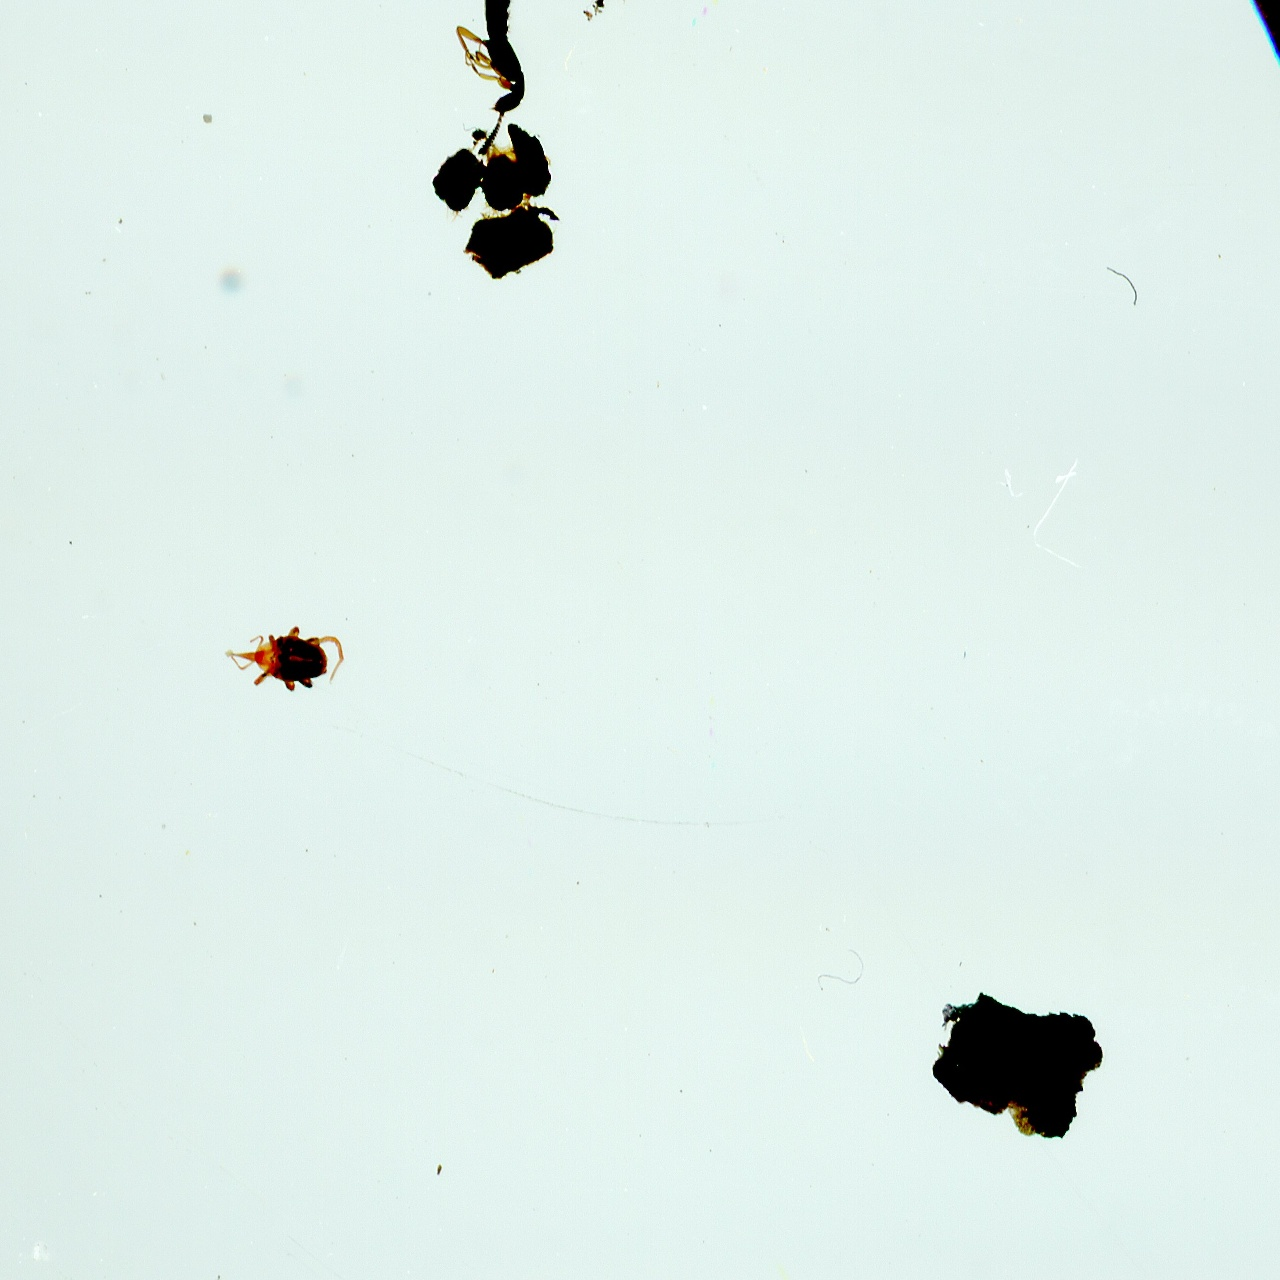arthropod: (453, 0, 533, 162), (221, 621, 350, 698)
